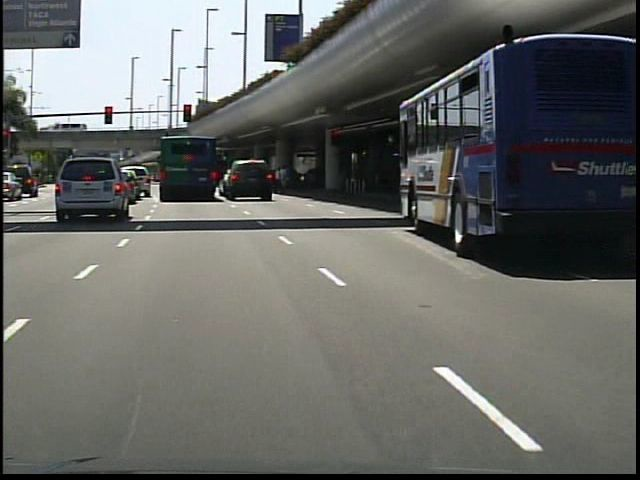person: (274, 161, 294, 198)
